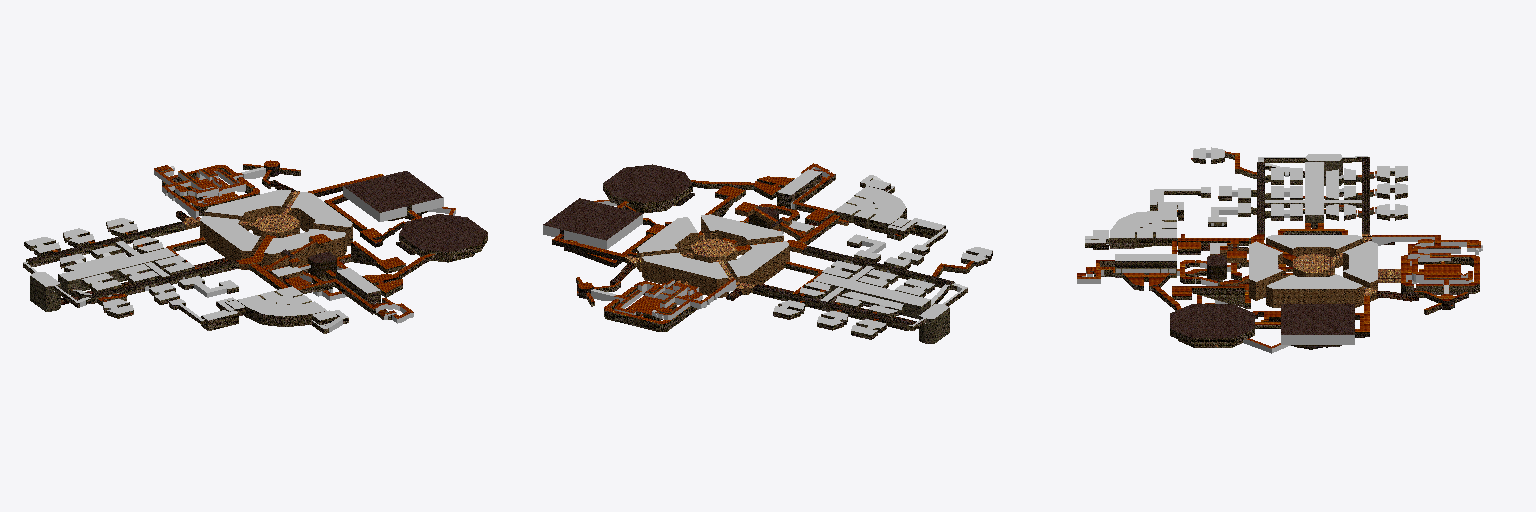
3 renders of one model, left to right at view 1: azimuth 30°, elevation 25°; view 2: azimuth 150°, elevation 25°; view 3: azimuth 270°, elevation 25°, orthographic.
Visible parts, largest first — view 1: Room86, Room91, Room22, Room15, Room13, Room16, Room60, Room12, Room46, Room43, Room131, Room18 (+3 smaller); view 2: Room86, Room91, Room13, Room22, Room15, Room12, Room60, Room16, Room46, Room43, Room131, Room18 (+4 smaller); view 3: Room91, Room86, Room16, Room22, Room15, Room12, Room13, Room1, Room60, Room18, Room156, Room46 (+3 smaller).
Part boxes in pixels (x1,y1,x2,y2): Room86: (343,171,443,221); Room91: (399,214,487,262); Room22: (237,286,326,326); Room15: (200,216,260,270); Room13: (205,189,291,230); Room16: (291,192,352,245); Room60: (58,248,176,293); Room12: (264,229,346,266); Room46: (26,222,184,266); Room43: (78,260,238,306); Room131: (30,272,60,311); Room18: (253,214,299,239); Room86: (543,198,642,249); Room91: (603,164,692,213); Room13: (642,252,728,297); Room22: (834,186,906,233); Room15: (727,241,789,294); Room12: (701,214,783,246); Room60: (813,273,930,318); Room16: (637,217,697,271); Room46: (753,285,910,330); Room43: (804,246,964,291); Room131: (919,304,949,343); Room18: (690,238,736,264); Room91: (1170,304,1254,347); Room86: (1281,304,1354,349); Room16: (1266,274,1363,307); Room22: (1110,210,1176,248); Room15: (1266,235,1363,267); Room12: (1249,241,1282,300); Room13: (1343,241,1377,301); Room1: (1115,254,1179,277); Room60: (1303,162,1325,227); Room18: (1293,254,1334,276); Room156: (1192,286,1244,307); Room46: (1358,157,1373,233).
Size of the model in its own units: 22016 by 2416 by 19792.
84 materials, 62 textured.